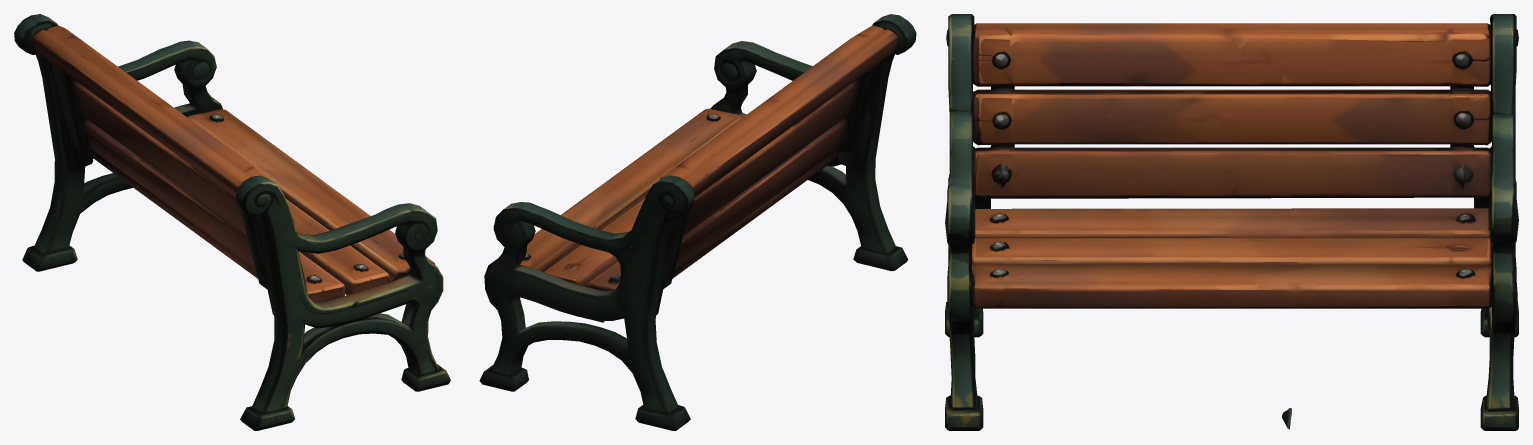
Rendered from bench.glb.
3 views of the same model, side by side, from view 1: azimuth 30°, elevation 25°; view 2: azimuth 150°, elevation 25°; view 3: azimuth 270°, elevation 25° (orthographic). The views are drawn at different scales.
Parts seen in each view (by area): view 1: tripo_node_2fbd3c9a-c7e3-49c5-8992-09ecd9904ab9; view 2: tripo_node_2fbd3c9a-c7e3-49c5-8992-09ecd9904ab9; view 3: tripo_node_2fbd3c9a-c7e3-49c5-8992-09ecd9904ab9.
Boxes of the visible parts, x1=… form: tripo_node_2fbd3c9a-c7e3-49c5-8992-09ecd9904ab9: x1=14, y1=14, x2=450, y2=430; tripo_node_2fbd3c9a-c7e3-49c5-8992-09ecd9904ab9: x1=479, y1=14, x2=916, y2=430; tripo_node_2fbd3c9a-c7e3-49c5-8992-09ecd9904ab9: x1=945, y1=14, x2=1518, y2=430.
Bounding box in the file's own units: 0.5137 × 0.5801 × 0.998.
Materials: 1 (1 with a texture image).
